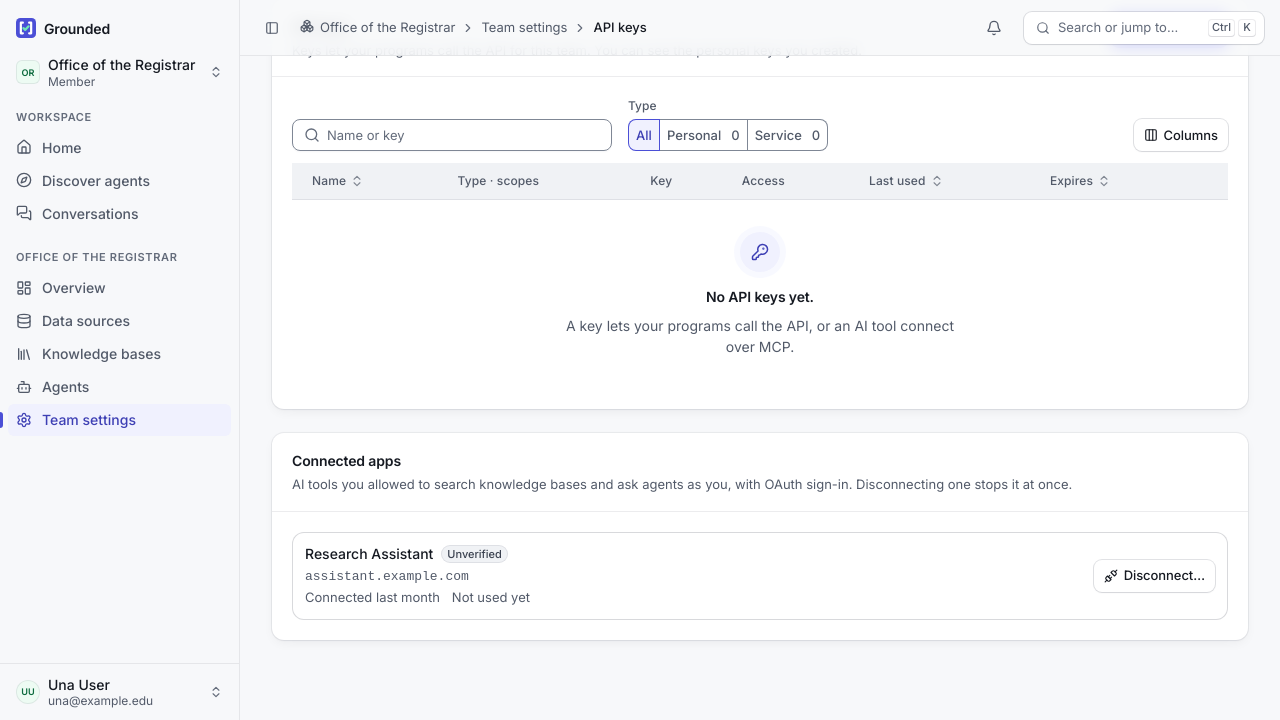
Test case: Connected apps › lists the person's apps on their API keys page and disconnects one
(page scrolled)
Expected: the text "Research Assistant" is shown, [305,545,433,562]
Expected: the text "assistant.example.com" is shown, [305,569,469,584]
Click the button with aria-label "Disconnect Research Assistant…". click: (1154, 576)
box: [1094,560,1215,592]
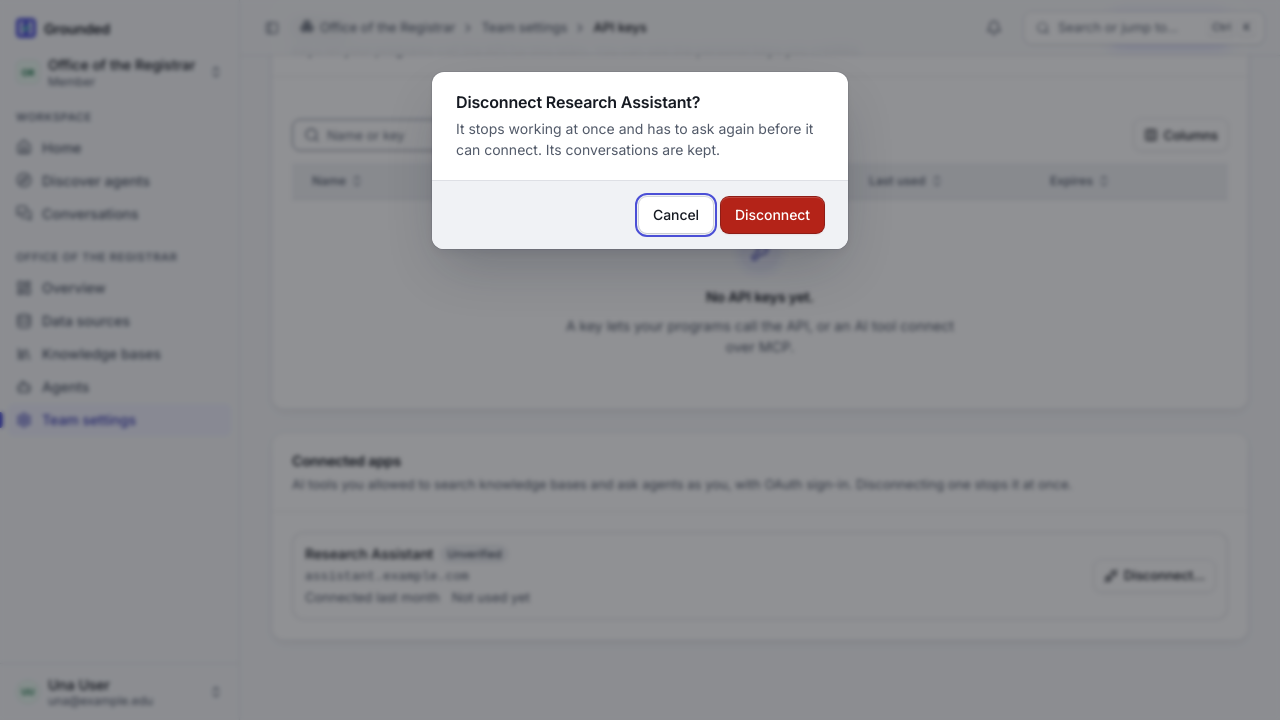
Click the button "Disconnect". click: (773, 215)
box: [721,197,824,233]
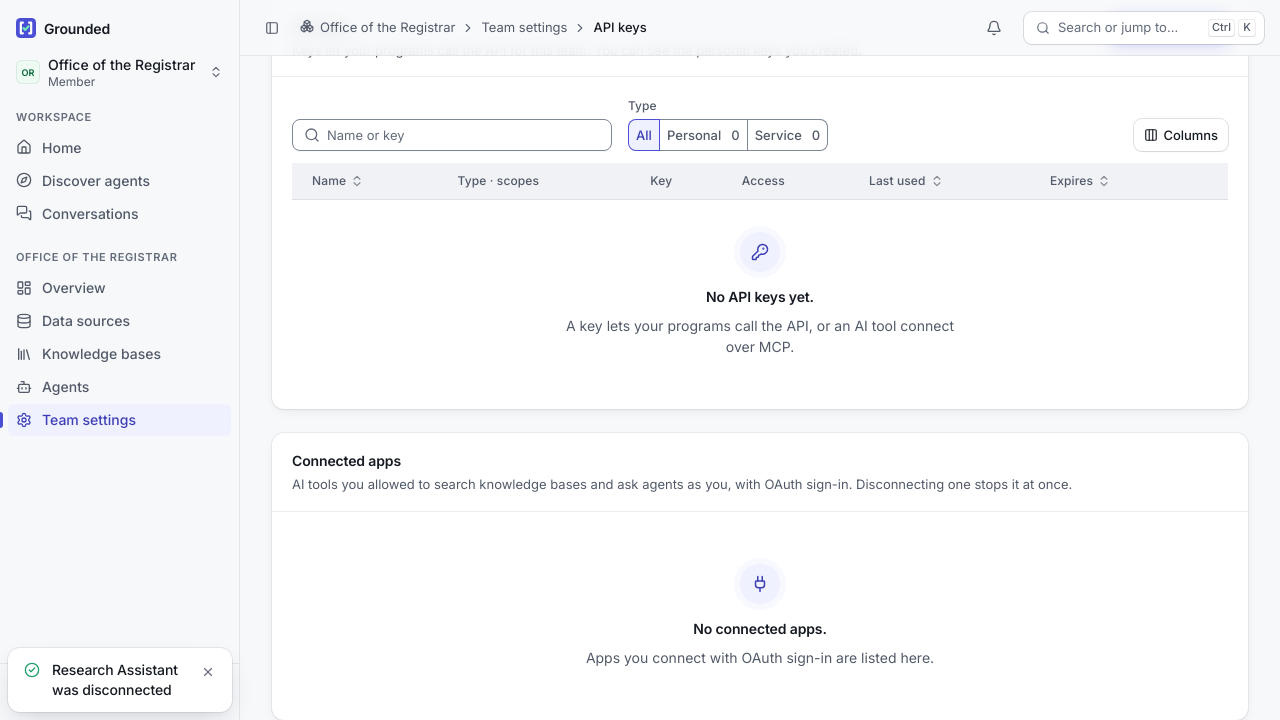
Expected: the text "No connected apps." is shown, [693,620,827,639]
